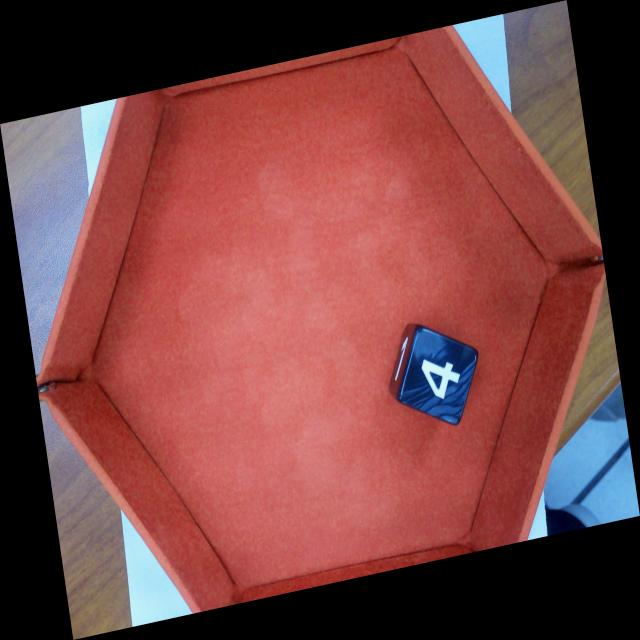dice: (396, 325, 480, 429)
